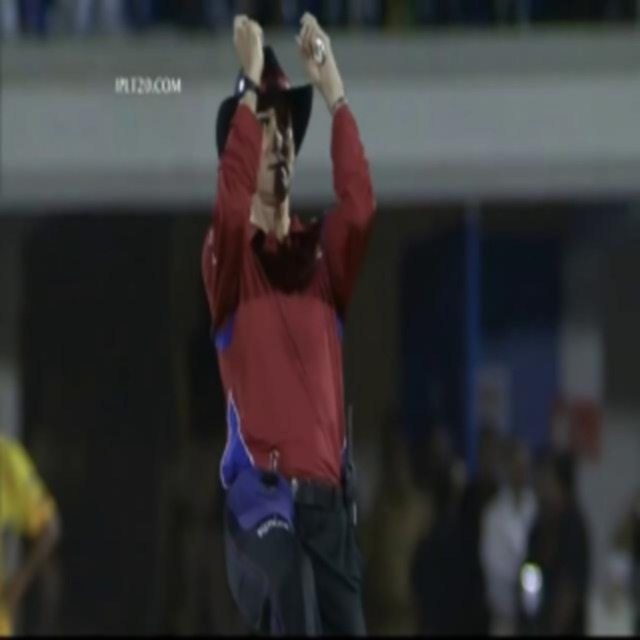Six: (195, 6, 393, 640)
